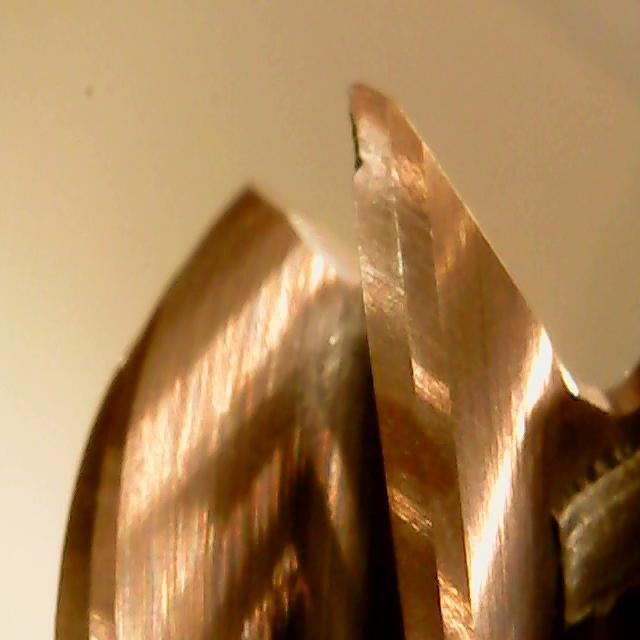Tool-wear-class-1: (324, 80, 438, 312)
